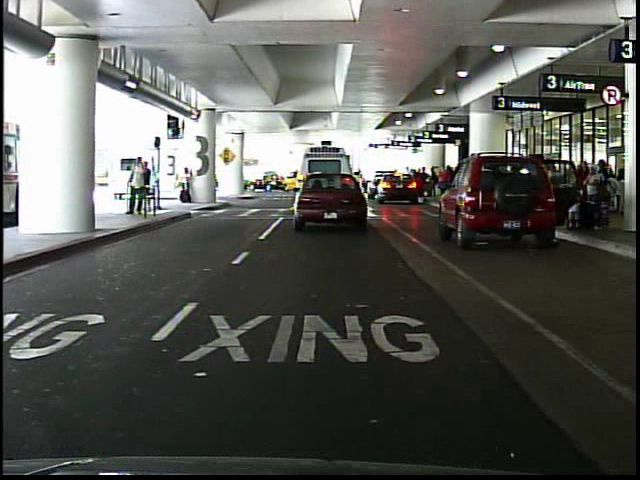person: (529, 152, 561, 234), (125, 154, 148, 221), (142, 160, 158, 219), (177, 167, 196, 208), (437, 163, 454, 201)
